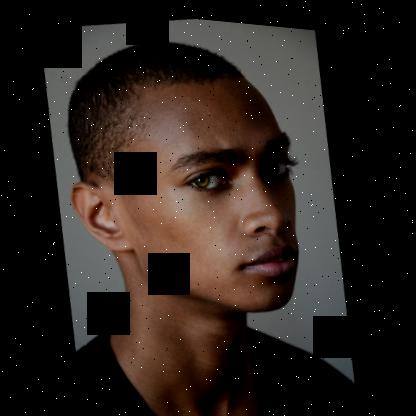Male: (51, 49, 318, 337)
